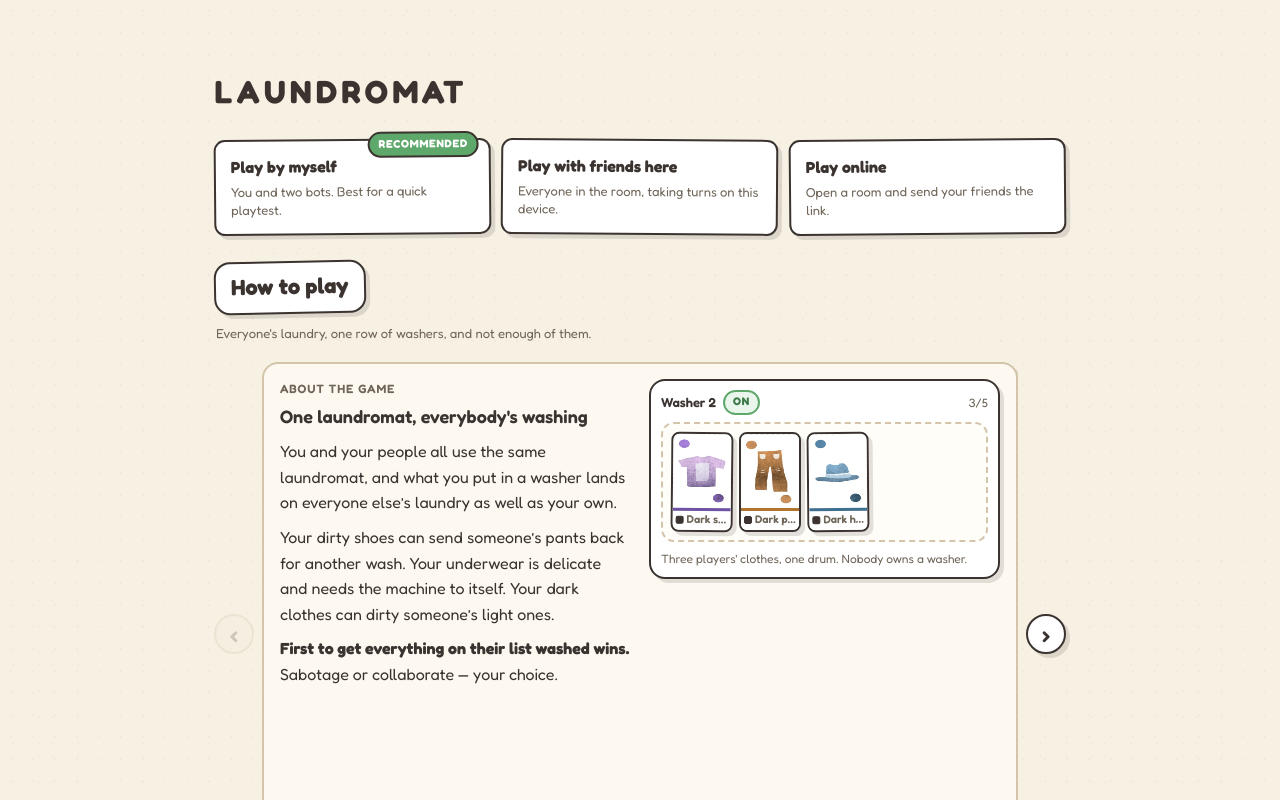
Test: creating a room › a nameless player is told to type a name rather than silently failing
The width and height of the screenshot is (1280, 800).
Click the text "Play online" at (846, 167), box [805,154,886,180]
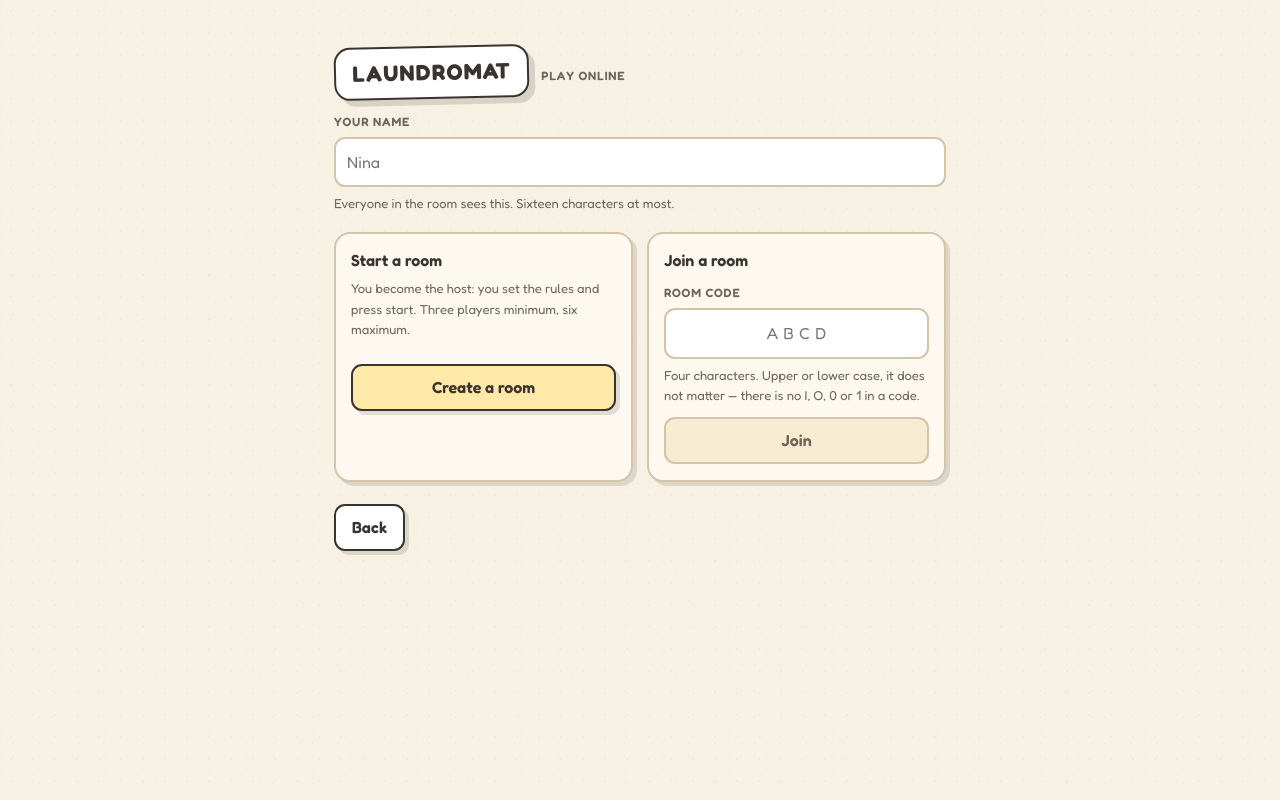
Check: the heading "Start a room" is shown, box [351,250,442,270]
Click the button "Create a room" at (484, 387), box [351,364,616,411]
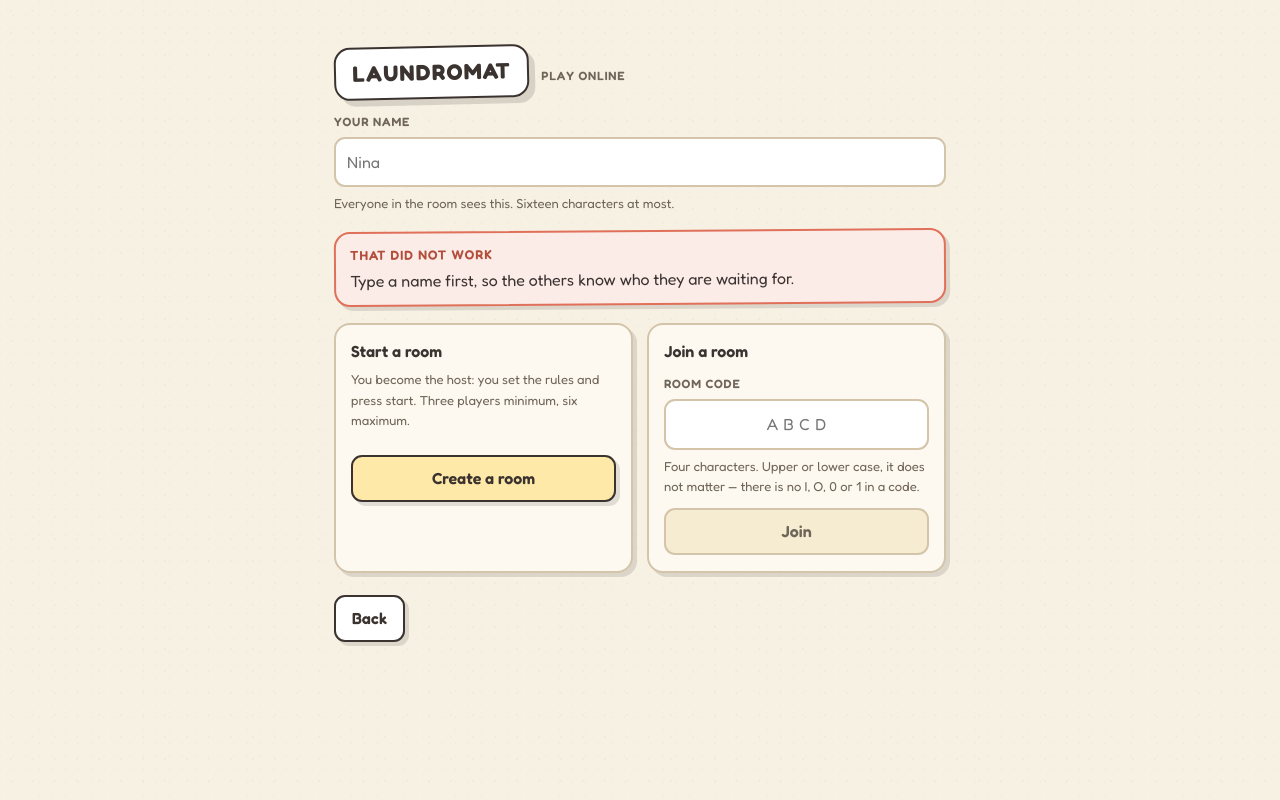
Check: the text "Type a name first" is shown, box [350,268,794,291]
